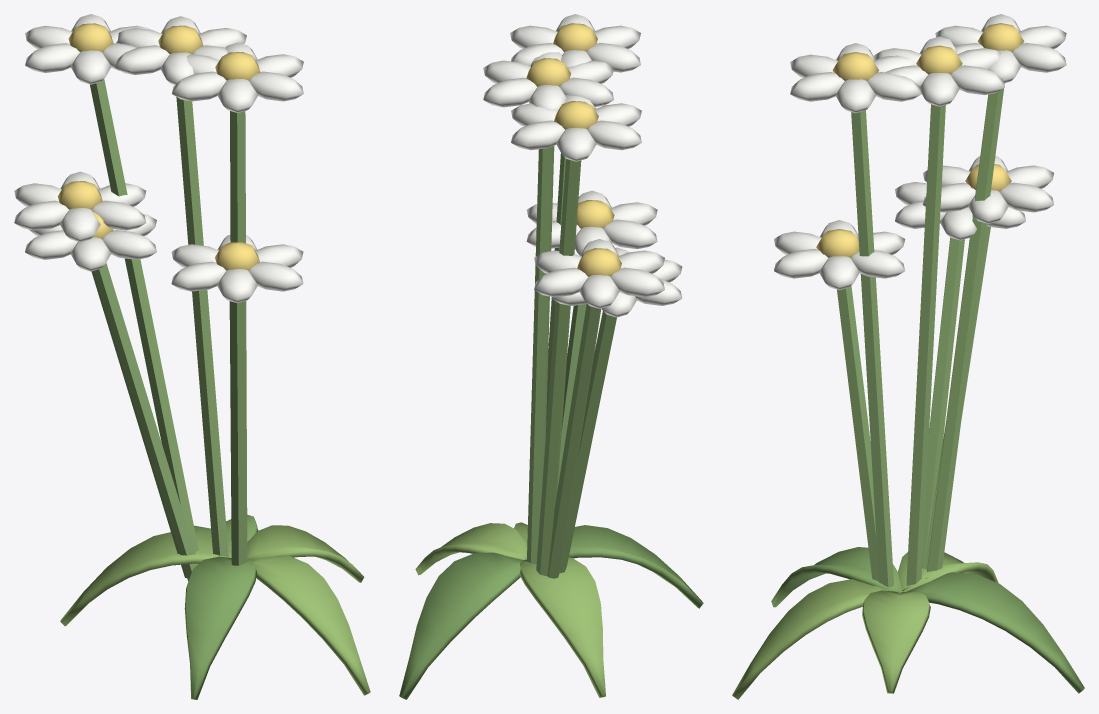
File: Flowers_White.gltf
The picture shows the model from 3 angles, left to right: view 1: azimuth 30°, elevation 25°; view 2: azimuth 150°, elevation 25°; view 3: azimuth 270°, elevation 25°; orthographic projection.
Visible parts, largest first — view 1: Flowers_White; view 2: Flowers_White; view 3: Flowers_White.
Part boxes in pixels (x1,y1,x2,y2): Flowers_White: [14, 14, 370, 699]; Flowers_White: [399, 14, 703, 699]; Flowers_White: [732, 14, 1084, 699].
Bounding box in the file's own units: 0.5979 × 1.16 × 0.6045.
